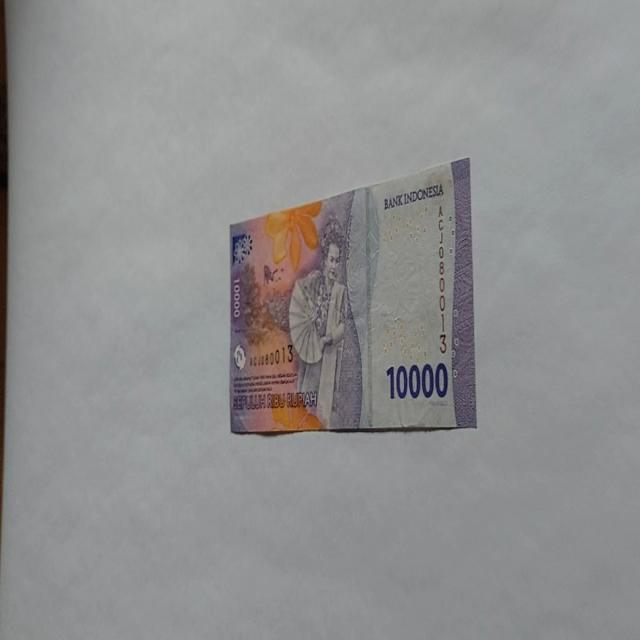sepuluh ribu rupiah: (228, 156, 477, 436), (382, 181, 444, 211)
